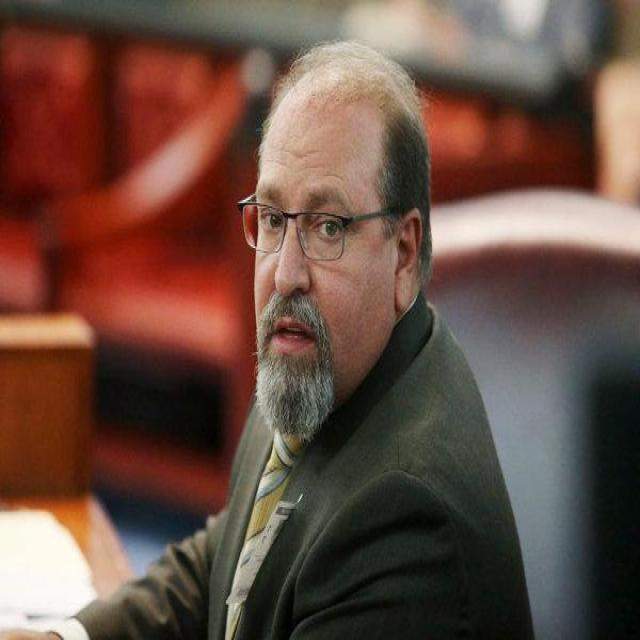human: (54, 36, 543, 640)
